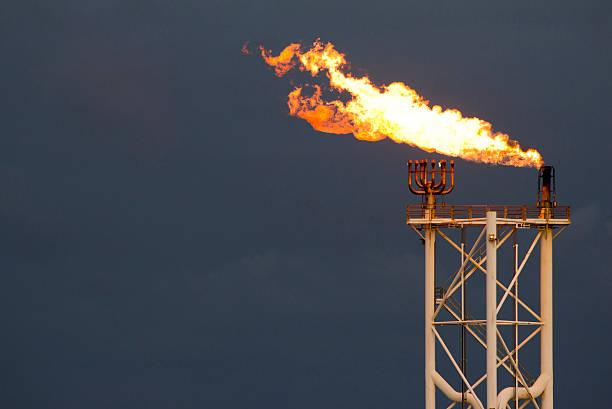Fire: (257, 7, 545, 160)
